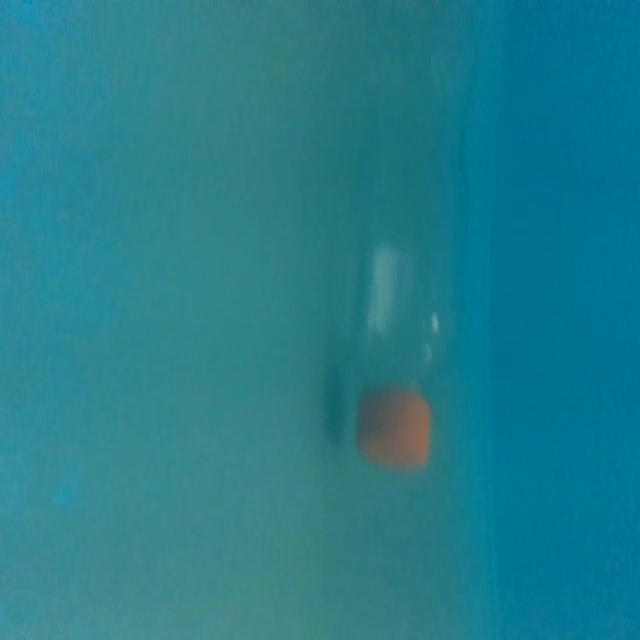plastic bottle: (333, 0, 502, 485)
